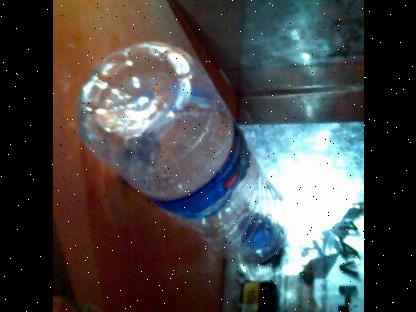Plastic Bottle: (71, 43, 287, 270)
